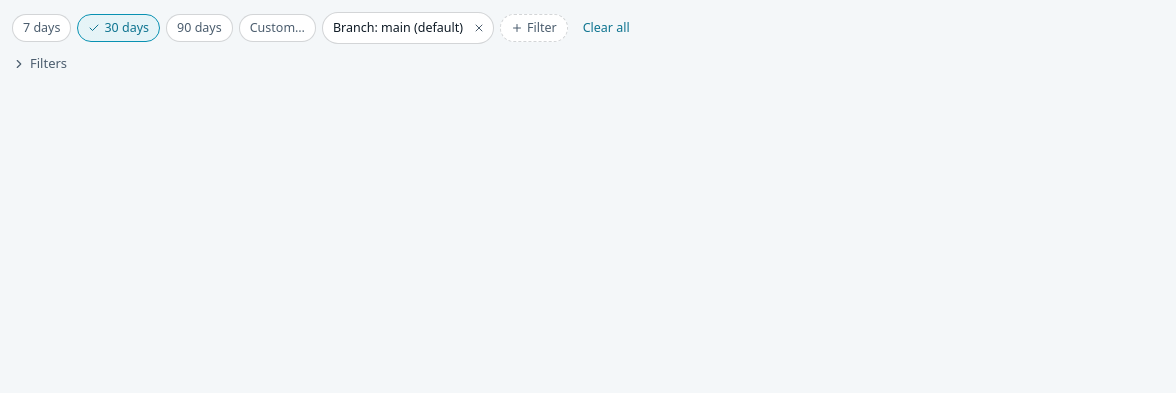
Test: the range error goes away when a date is edited
The width and height of the screenshot is (1176, 393).
Click the button with aria-label "+ Filter" at (534, 28), box [500, 14, 568, 42]
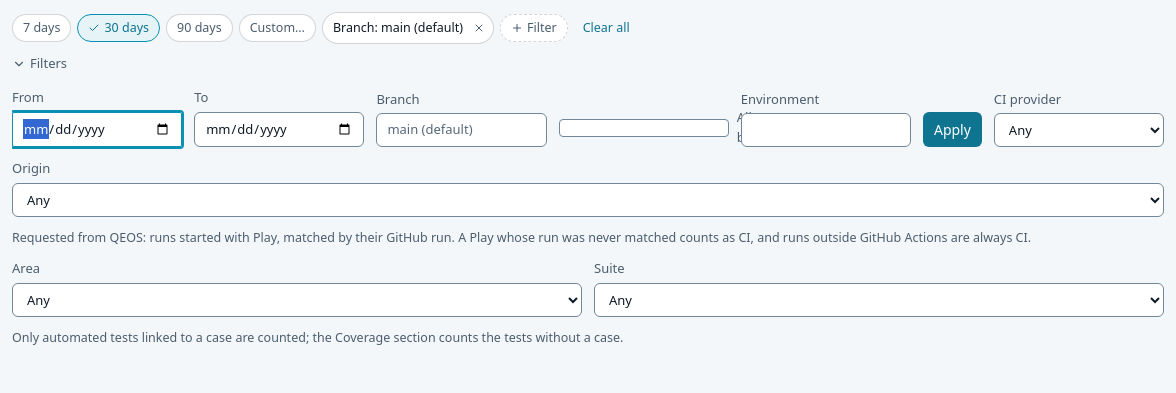
Type "2026-01-02" into the date field labelled "From" at (97, 129), box [12, 112, 182, 147]
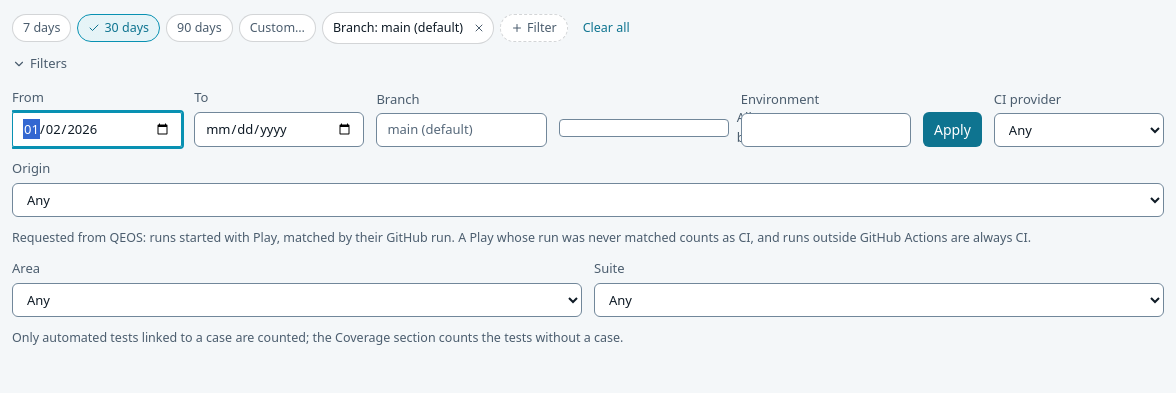
Type "2026-01-01" into the date field labelled "To" at (279, 129), box [194, 112, 364, 147]
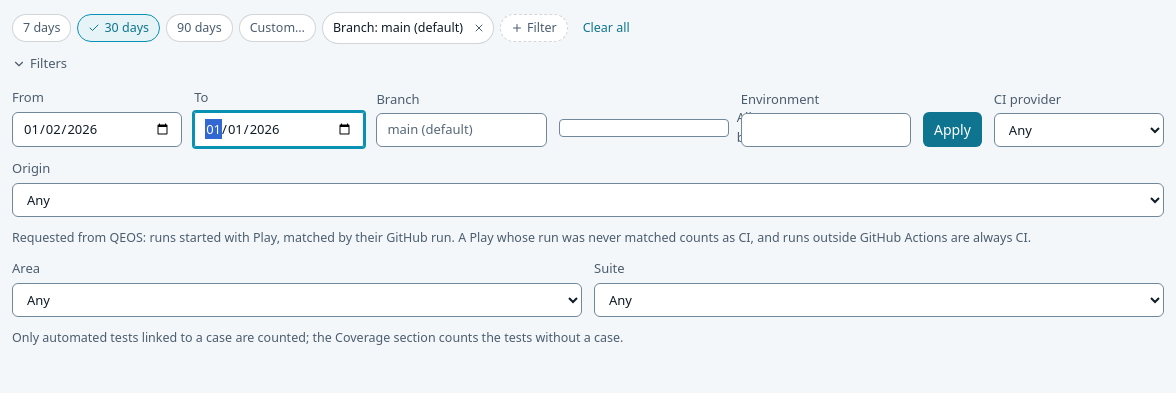
Click the button "Apply" at (952, 130), box [923, 112, 982, 147]
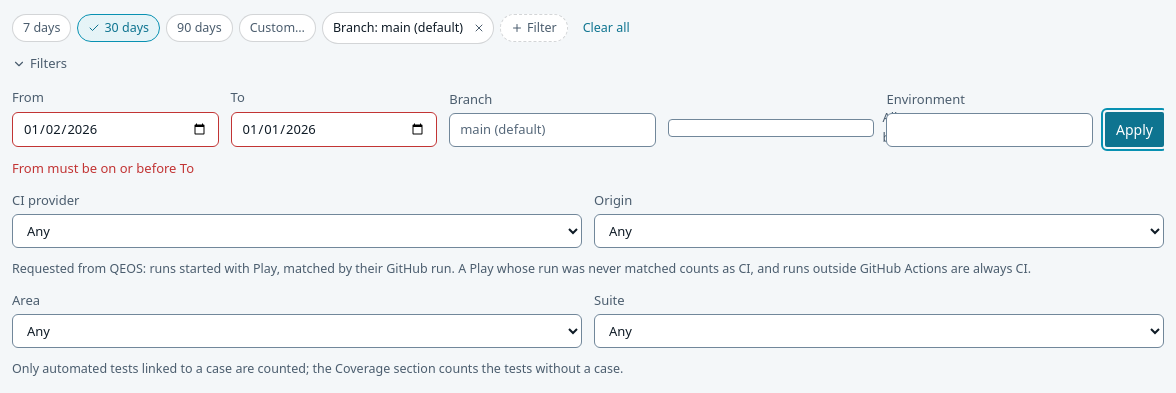
Check: the message "From must be on or before To" is shown, box [12, 159, 194, 177]
Clear the date field labelled "From" at (115, 129), box [12, 112, 219, 147]
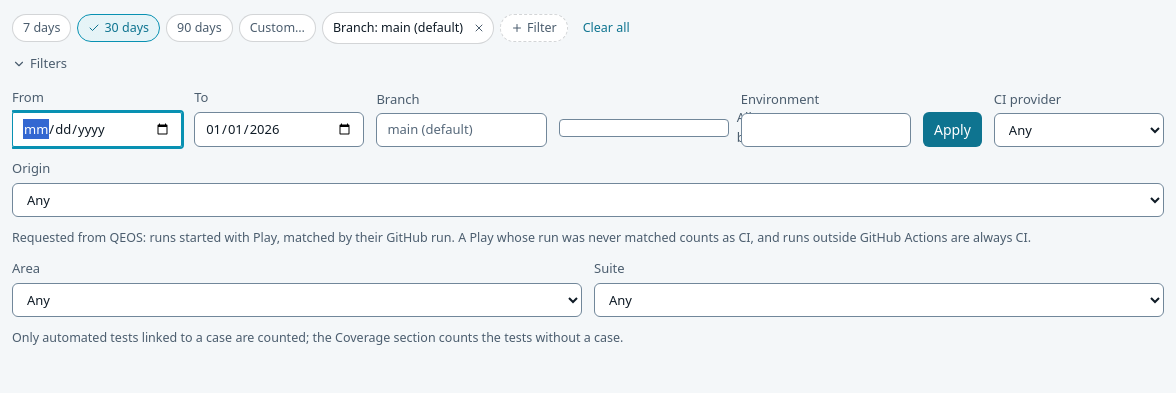
Check: the message "From must be on or before To" is gone
